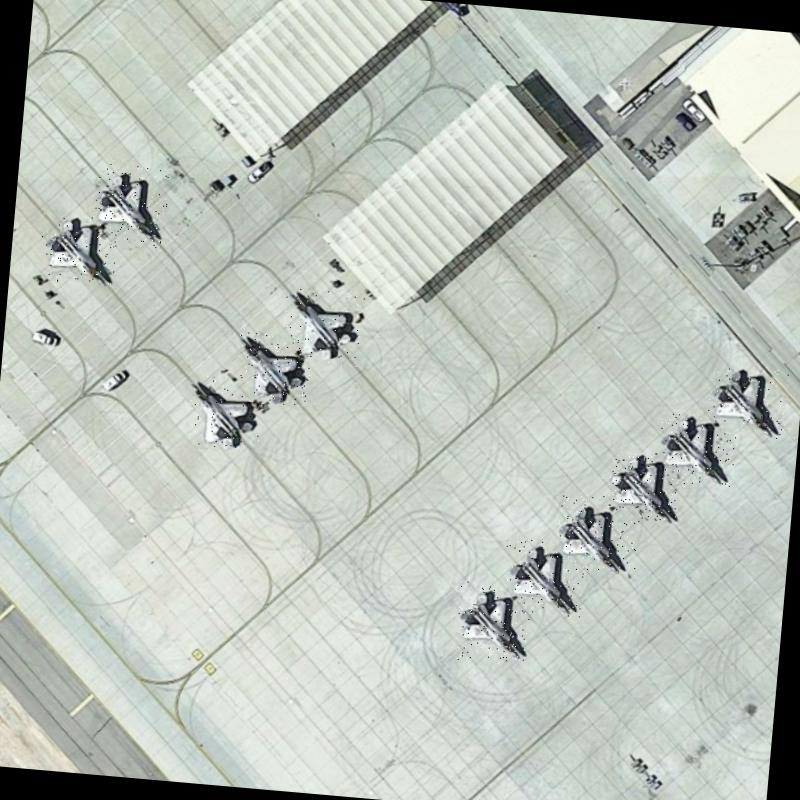A15: (278, 282, 367, 368), (450, 581, 536, 666), (555, 492, 641, 574), (501, 538, 587, 618), (92, 163, 170, 249), (706, 362, 790, 440), (654, 412, 738, 488), (606, 450, 688, 524), (37, 213, 120, 286), (234, 332, 313, 408), (186, 375, 264, 451)
